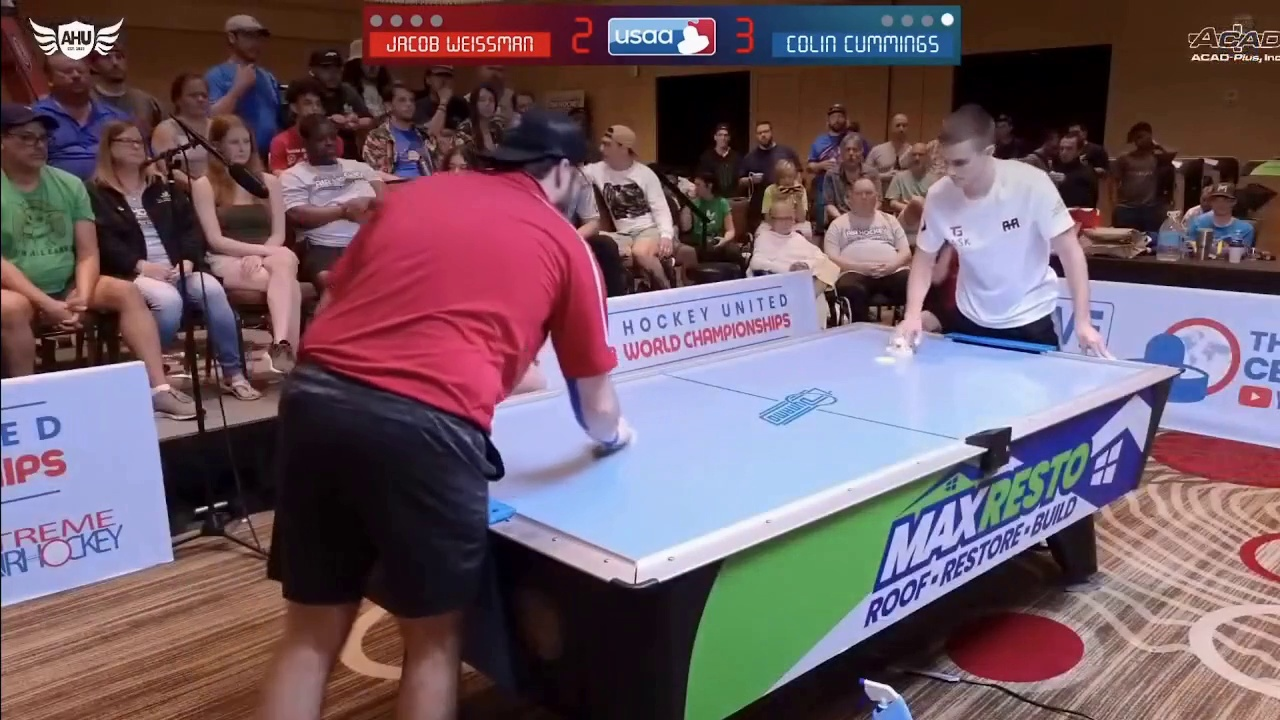player: (884, 339, 920, 357)
puck: (876, 355, 900, 367)
